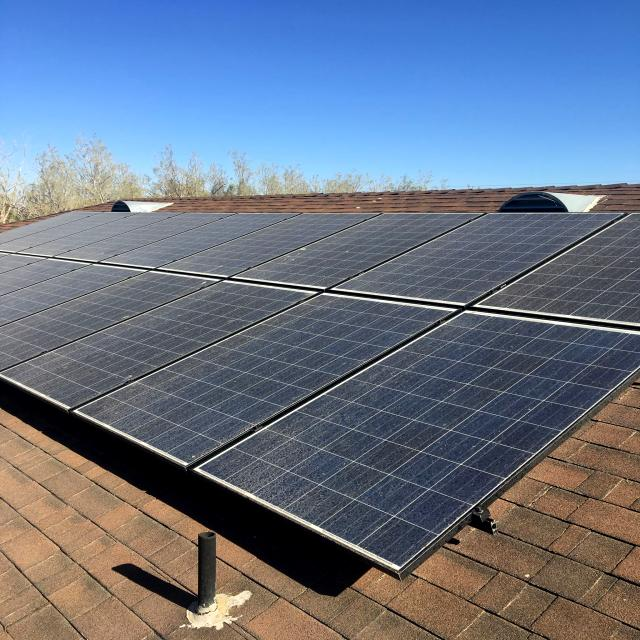dust: (290, 416, 470, 508), (75, 338, 284, 414), (442, 318, 594, 406), (41, 276, 150, 334), (226, 449, 288, 492)
